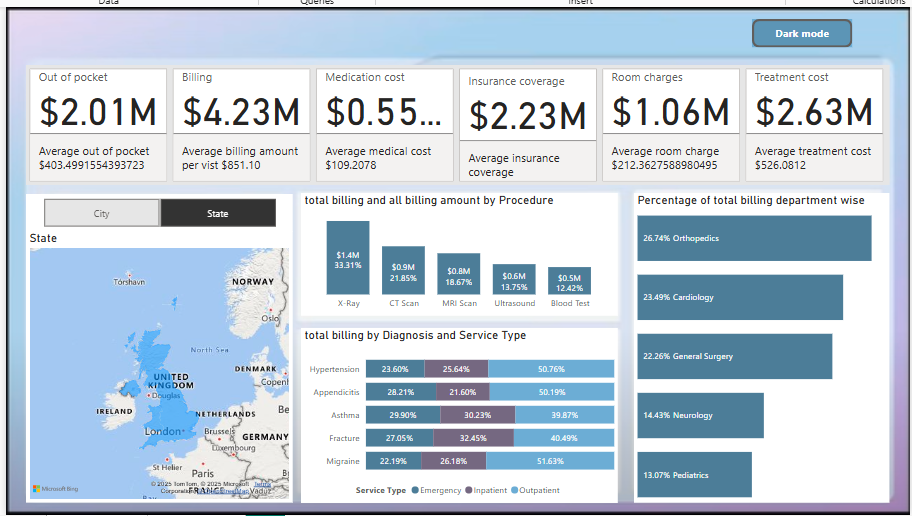

The dashboard page shown, as its layout file describes it:
{"tool":"powerbi","page":{"name":"light mode","canvas":[1280,720],"ordinal":0},"visuals":[{"type":"cardVisual","fields":{"Data":["dax calculation.out of pocket","dax calculation.total billing","dax calculation.Total medication cost","dax calculation.total insurance coverage","dax calculation.total room charges","dax calculation.total treatment cost"]},"box":[28.1,82.5,1223.8,170.3],"z":0},{"type":"columnChart","fields":{"Category":["procedures.Procedure"],"Y":["dax calculation.total billing","dax calculation.all billing amount"]},"box":[417.9,263.4,449.5,173.8],"z":1000},{"type":"tableEx","fields":{"Values":["cities.City","dax calculation.total billing","dax calculation.out of pocket"]},"box":[28.1,317.8,377.5,384.5],"z":2000},{"type":"slicer","fields":{"Values":["Patients location.state,city"]},"box":[28.1,265.1,377.5,52.7],"z":3000},{"type":"barChart","title":"Percentage of total billing department wise","fields":{"Category":["departments.Department"],"Y":["dax calculation.total billing","dax calculation.% department"]},"box":[890.2,263.4,361.7,439],"z":4000},{"type":"hundredPercentStackedBarChart","fields":{"Category":["diagnoses.Diagnosis"],"Y":["dax calculation.total billing"],"Series":["visit.Service Type"]},"box":[417.9,454.8,449.5,247.6],"z":5000},{"type":"actionButton","box":[1057,17.6,142.2,40.4],"z":6000}]}

Visuals, with their boxes on the page's 1280x720 design canvas (x1, y1, x2, y2). These are canvas units, not pixel positions in the 912x516 screenshot, which may show the page scaled, cropped or inside an application window:
cardVisual - dax calculation.out of pocket x dax calculation.total billing: [x1=28, y1=82, x2=1252, y2=253]
columnChart - procedures.Procedure x dax calculation.total billing: [x1=418, y1=263, x2=867, y2=437]
tableEx - cities.City x dax calculation.total billing: [x1=28, y1=318, x2=406, y2=702]
slicer - Patients location.state,city: [x1=28, y1=265, x2=406, y2=318]
"Percentage of total billing department wise" barChart: [x1=890, y1=263, x2=1252, y2=702]
hundredPercentStackedBarChart - diagnoses.Diagnosis x dax calculation.total billing: [x1=418, y1=455, x2=867, y2=702]
actionButton: [x1=1057, y1=18, x2=1199, y2=58]
